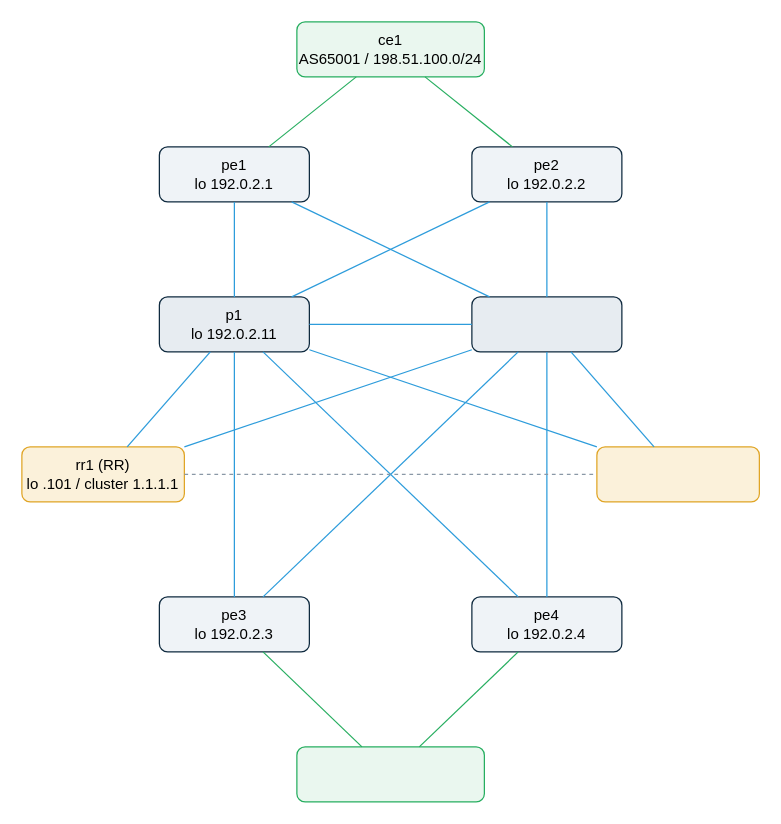
The diagram is 781 pixels wide and 824 high, and some of its shapes have lost their labels. Here are the shapes that lost their labels. From the top down, the centre of each, then its label:
point (546, 324): p2 lo 192.0.2.12
point (677, 474): rr2 (RR) lo .102 / cluster 2.2.2.2
point (390, 774): ce2 AS65002 / 203.0.113.0/24
